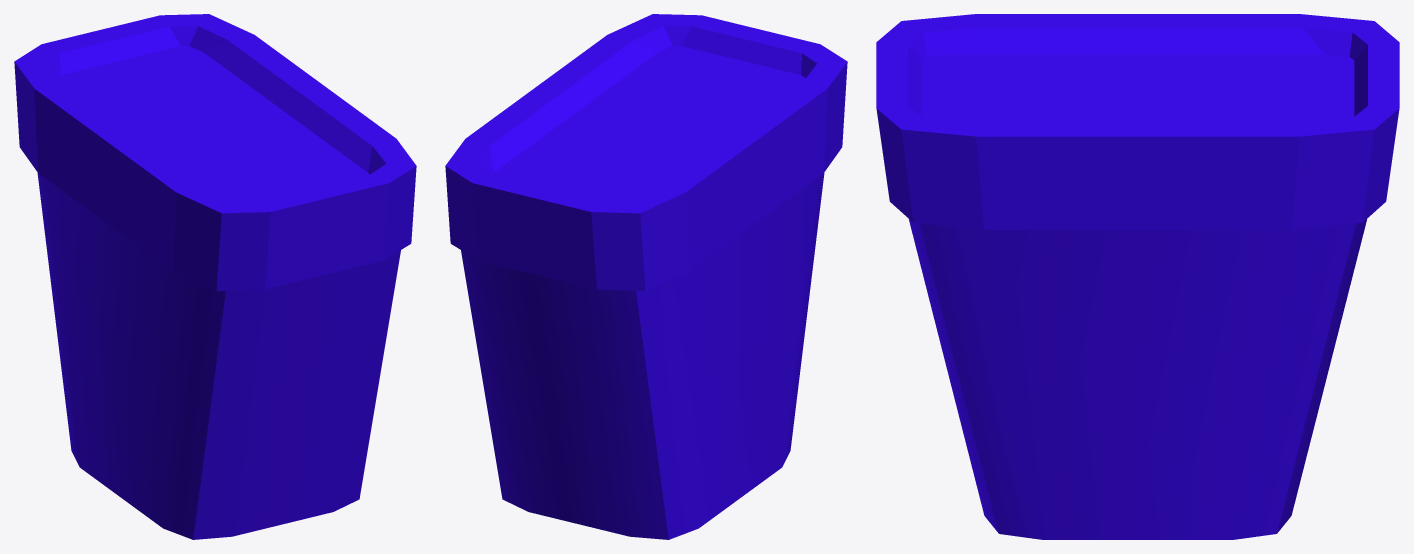
The model's file is office_pack_paperShredder_1_meshCollider.fbx.
3 views of the same model, side by side, from view 1: azimuth 30°, elevation 25°; view 2: azimuth 150°, elevation 25°; view 3: azimuth 270°, elevation 25° (orthographic). The views are drawn at different scales.
Parts seen in each view (by area): view 1: office_pack_paperShredder_1_meshCollider, office_pack_paperShredder_1_panel_1_meshCollider; view 2: office_pack_paperShredder_1_meshCollider, office_pack_paperShredder_1_panel_1_meshCollider; view 3: office_pack_paperShredder_1_meshCollider, office_pack_paperShredder_1_panel_1_meshCollider.
Part boxes in pixels (left/top/right/bottom): office_pack_paperShredder_1_meshCollider: left=37, top=173, right=400, bottom=539; office_pack_paperShredder_1_panel_1_meshCollider: left=14, top=14, right=416, bottom=291; office_pack_paperShredder_1_meshCollider: left=461, top=173, right=824, bottom=539; office_pack_paperShredder_1_panel_1_meshCollider: left=445, top=14, right=847, bottom=291; office_pack_paperShredder_1_meshCollider: left=909, top=219, right=1366, bottom=539; office_pack_paperShredder_1_panel_1_meshCollider: left=876, top=14, right=1399, bottom=229.
Size of the model in its own units: 25.38 by 39.8 by 45.75.
